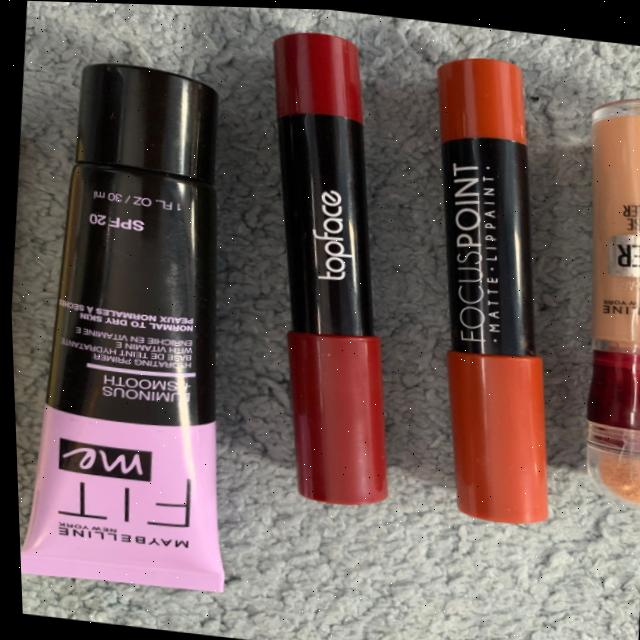concealer: (542, 70, 640, 527)
lip liner: (208, 18, 455, 533), (383, 35, 595, 546)
primer: (1, 35, 283, 614)
